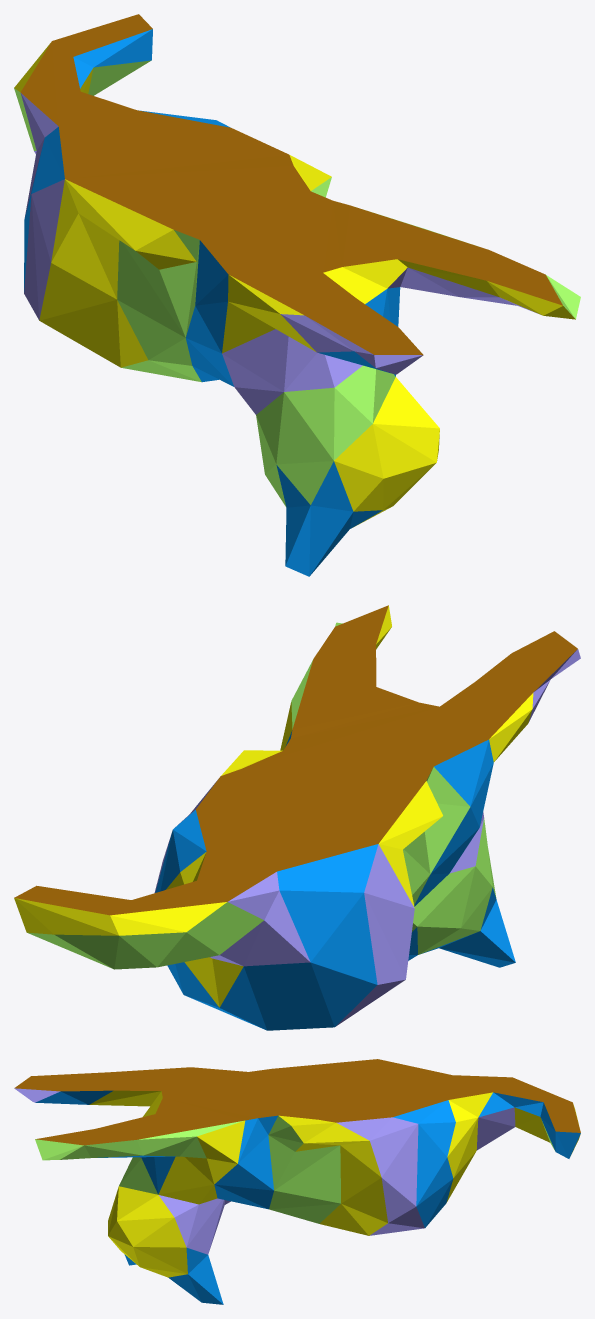
File: chat310.obj
The picture shows the model from 3 angles, top to bottom: view 1: azimuth 30°, elevation 25°; view 2: azimuth 150°, elevation 25°; view 3: azimuth 270°, elevation 25°; orthographic projection. The views are drawn at different scales.
Parts seen in each view (by area): view 1: STL object_color_163_102_000, STL object_color_256_256_001, STL object_color_163_254_102, STL object_color_000_153_256, STL object_color_163_153_256; view 2: STL object_color_163_102_000, STL object_color_000_153_256, STL object_color_163_254_102, STL object_color_256_256_001, STL object_color_163_153_256; view 3: STL object_color_163_102_000, STL object_color_256_256_001, STL object_color_000_153_256, STL object_color_163_254_102, STL object_color_163_153_256.
Part boxes in pixels (x1,y1,x2,y2): STL object_color_163_102_000: (20,14,562,355); STL object_color_256_256_001: (14,43,575,527); STL object_color_163_254_102: (14,60,580,506); STL object_color_000_153_256: (24,29,400,576); STL object_color_163_153_256: (20,93,540,414); STL object_color_163_102_000: (14,605,577,915); STL object_color_000_153_256: (155,730,515,1030); STL object_color_163_254_102: (27,622,496,969); STL object_color_256_256_001: (14,605,533,1007); STL object_color_163_153_256: (154,649,580,1026); STL object_color_163_102_000: (14,1059,580,1145); STL object_color_256_256_001: (89,1090,580,1277); STL object_color_000_153_256: (35,1090,580,1304); STL object_color_163_254_102: (35,1116,554,1223); STL object_color_163_153_256: (14,1088,515,1254).
Size of the model in its own units: 20.61 by 18.51 by 48.97.
